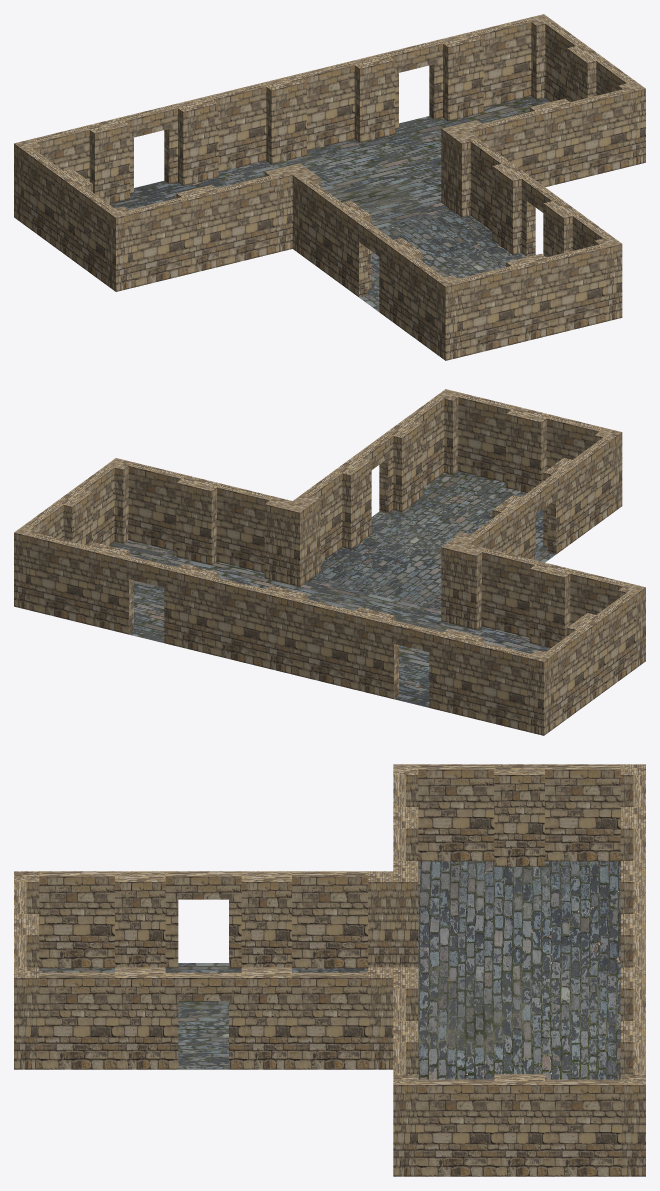
Rendered from 1_4doorTRoom.fbx.
3 views of the same model, one above another, from view 1: azimuth 30°, elevation 25°; view 2: azimuth 150°, elevation 25°; view 3: azimuth 270°, elevation 25° (orthographic). The views are drawn at different scales.
Parts seen in each view (by area): view 1: Cube_29, Plane_1; view 2: Cube_29, Plane_1; view 3: Cube_29, Plane_1.
Boxes of the visible parts, x1,y1,x2,y2 form: Cube_29: (14,14,645,360); Plane_1: (109,96,550,311); Cube_29: (14,389,645,735); Plane_1: (109,471,555,707); Cube_29: (14,764,645,1176); Plane_1: (39,861,620,1079).
Bounding box in the file's own units: 60 × 8 × 50.
2 materials, 2 textured.
